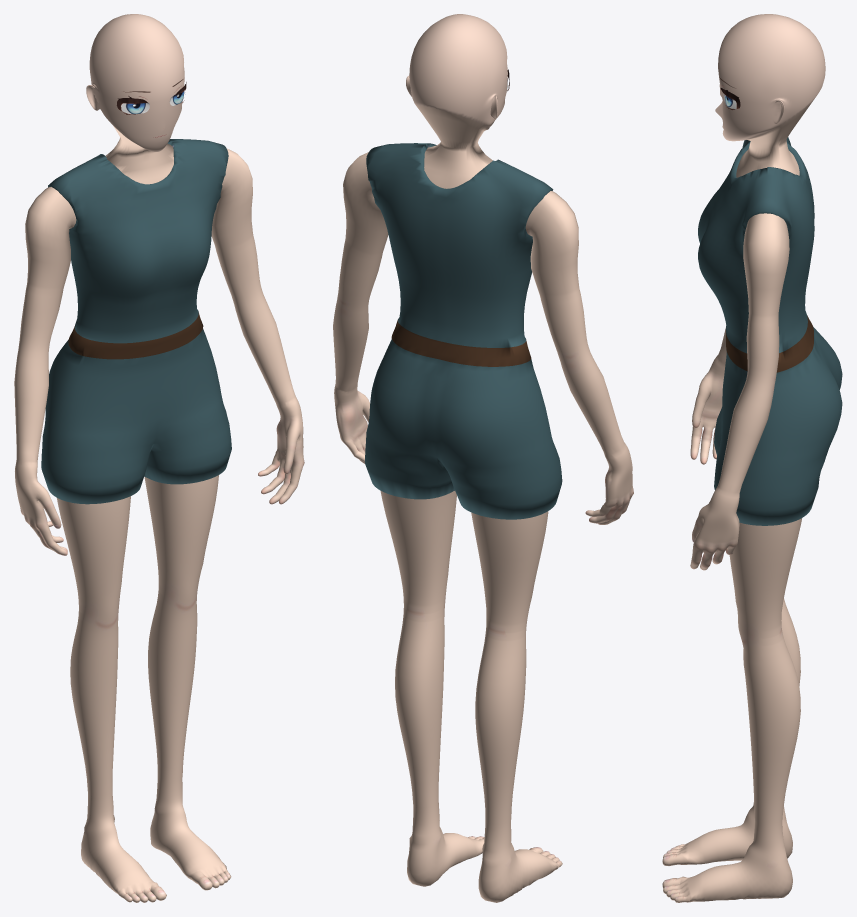
File: eve-r085-pose.glb
The picture shows the model from 3 angles, left to right: view 1: azimuth 30°, elevation 25°; view 2: azimuth 150°, elevation 25°; view 3: azimuth 270°, elevation 25°; orthographic projection. The views are drawn at different scales.
Parts seen in each view (by area): view 1: Eve_Skin, Eve_Outfit_Basic, Eve_Face; view 2: Eve_Skin, Eve_Outfit_Basic; view 3: Eve_Skin, Eve_Outfit_Basic.
Boxes of the visible parts, x1=… form: Eve_Skin: x1=14, y1=14, x2=304, y2=902; Eve_Outfit_Basic: x1=41, y1=139, x2=231, y2=504; Eve_Face: x1=116, y1=79, x2=186, y2=137; Eve_Skin: x1=333, y1=14, x2=633, y2=902; Eve_Outfit_Basic: x1=365, y1=143, x2=562, y2=519; Eve_Skin: x1=662, y1=14, x2=825, y2=902; Eve_Outfit_Basic: x1=698, y1=137, x2=842, y2=525.
Size of the model in its own units: 0.5605 by 1.59 by 0.302.
18 materials, 14 textured.
